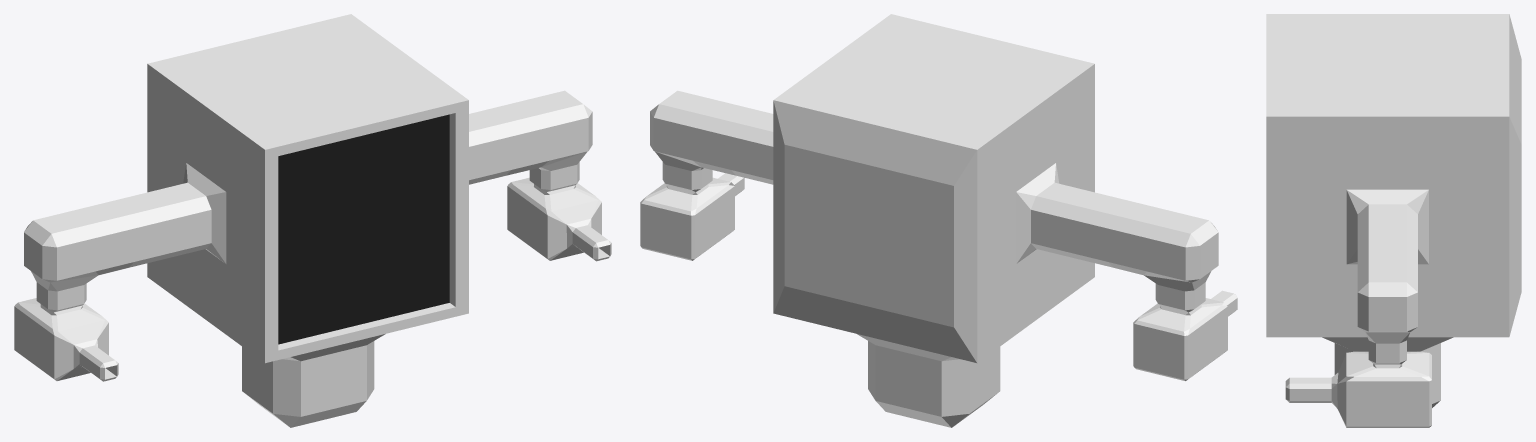
The model's file is robot.fbx.
3 renders of one model, left to right at view 1: azimuth 30°, elevation 25°; view 2: azimuth 150°, elevation 25°; view 3: azimuth 270°, elevation 25°, orthographic. The views are drawn at different scales.
Visible parts, largest first — view 1: Cube; view 2: Cube; view 3: Cube.
Boxes of the visible parts, x1,y1,x2,y2 form: Cube: (14,14,611,427); Cube: (640,14,1237,427); Cube: (1266,14,1521,427).
Size of the model in its own units: 540 by 306 by 210.
Materials: 1 (1 with a texture image).
